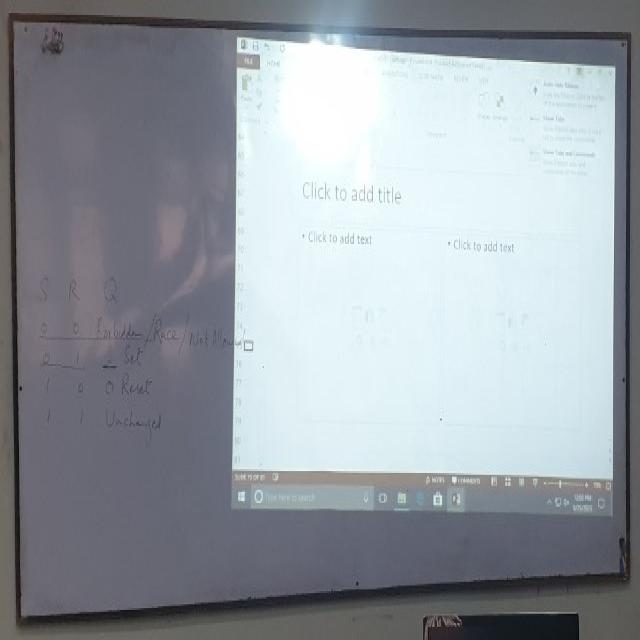Slide: (230, 37, 616, 525)
White-board: (10, 14, 630, 620)
